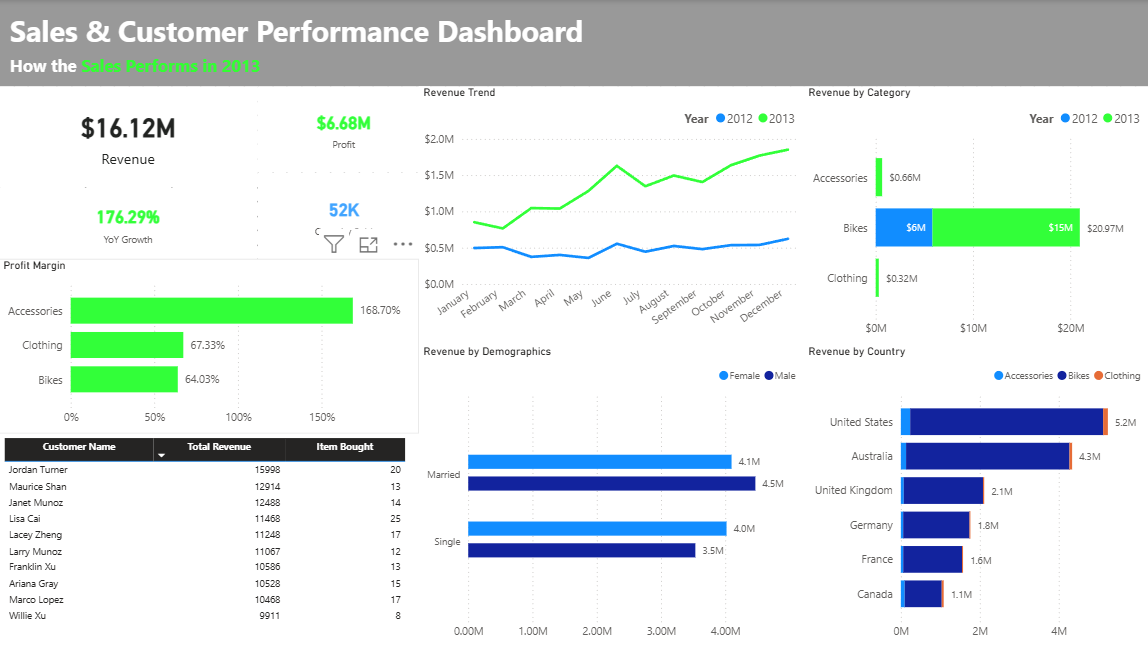

What the dashboard file says about the page in this screenshot:
{"tool":"powerbi","page":{"name":"Main","canvas":[1280,720],"ordinal":0},"visuals":[{"type":"shape","title":"sdds","box":[0,0,1280,96.5],"z":0},{"type":"textbox","box":[0,56,319,40],"z":1000},{"type":"card","fields":{"Values":["Product Dateset.KPI Revenue"]},"box":[0,96,288,112],"z":2000},{"type":"card","fields":{"Values":["Product Dateset.YoY Growth"]},"box":[0,208.3,287.5,80],"z":3000},{"type":"card","fields":{"Values":["Product Dateset.KPI Profit"]},"box":[287.5,95.8,191.7,95.8],"z":4000},{"type":"card","fields":{"Values":["Product Dateset.KPI Quantity Sold"]},"box":[287.5,191.7,191.7,96.7],"z":5000},{"type":"lineChart","title":"Revenue Trend","fields":{"Category":["Product Dateset.order_date.Variation.Date Hierarchy.Month"],"Series":["Product Dateset.order_date.Variation.Date Hierarchy.Year"],"Y":["Product Dateset.Total Revenue"]},"box":[467.5,96,428.5,288],"z":6000},{"type":"clusteredBarChart","title":"Profit Margin","fields":{"Category":["Product Dateset.category"],"Y":["Product Dateset.Profit Margin"]},"box":[0,288,467.5,194.8],"z":7000},{"type":"barChart","title":"Revenue by Category","fields":{"Y":["Product Dateset.Total Revenue"],"Category":["Product Dateset.category"],"Series":["Product Dateset.order_date.Variation.Date Hierarchy.Year"]},"box":[896,96,384,288],"z":8000},{"type":"clusteredBarChart","title":"Revenue by Demographics","fields":{"Category":["Customer Dataset.marital_status"],"Series":["Customer Dataset.gender"],"Y":["Product Dateset.KPI Revenue"]},"box":[467.5,384,428.5,336.7],"z":9000},{"type":"barChart","title":"Revenue by Country","fields":{"Category":["Customer Dataset.country"],"Series":["Product Dateset.category"],"Y":["Product Dateset.KPI Revenue"]},"box":[896,384,384,336.7],"z":10000},{"type":"tableEx","fields":{"Values":["Customer Dataset.customer_name","Product Dateset.Total Revenue","Product Dateset.Total Quantity Sold"]},"box":[0,482.5,467.5,237.5],"z":11000}]}

Visuals, with their boxes in screenshot pixels (x1, y1, x2, y2), scaled from the page's 1280x720 canvas onto the 1148x647 screenshot:
"sdds" shape: locate(0, 0, 1147, 87)
textbox: locate(0, 50, 286, 86)
card - Product Dateset.KPI Revenue: locate(0, 86, 258, 187)
card - Product Dateset.YoY Growth: locate(0, 187, 258, 259)
card - Product Dateset.KPI Profit: locate(258, 86, 430, 172)
card - Product Dateset.KPI Quantity Sold: locate(258, 172, 430, 259)
"Revenue Trend" lineChart: locate(419, 86, 804, 345)
"Profit Margin" clusteredBarChart: locate(0, 259, 419, 434)
"Revenue by Category" barChart: locate(804, 86, 1147, 345)
"Revenue by Demographics" clusteredBarChart: locate(419, 345, 804, 646)
"Revenue by Country" barChart: locate(804, 345, 1147, 646)
tableEx - Customer Dataset.customer_name x Product Dateset.Total Revenue: locate(0, 434, 419, 646)
